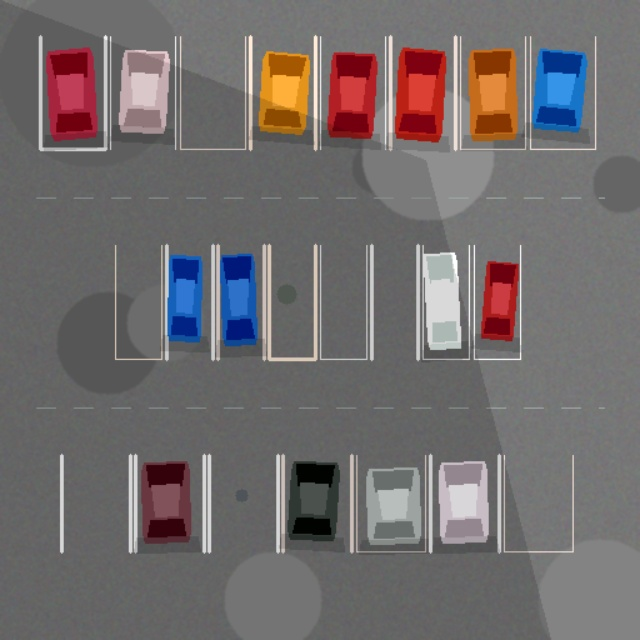space-empty: (180, 36, 245, 149), (61, 455, 130, 551), (209, 455, 278, 551), (504, 455, 572, 551), (371, 245, 418, 359), (115, 245, 161, 359), (269, 245, 315, 359), (320, 245, 366, 359)
space-occupied: (40, 36, 105, 149), (110, 36, 175, 149), (250, 36, 315, 149), (320, 36, 385, 149), (390, 36, 455, 149), (460, 36, 525, 149), (530, 36, 595, 149), (135, 455, 204, 551), (282, 455, 351, 551), (356, 455, 425, 551), (430, 455, 499, 551), (422, 245, 469, 359), (166, 245, 212, 359), (218, 245, 264, 359), (474, 245, 520, 359)
